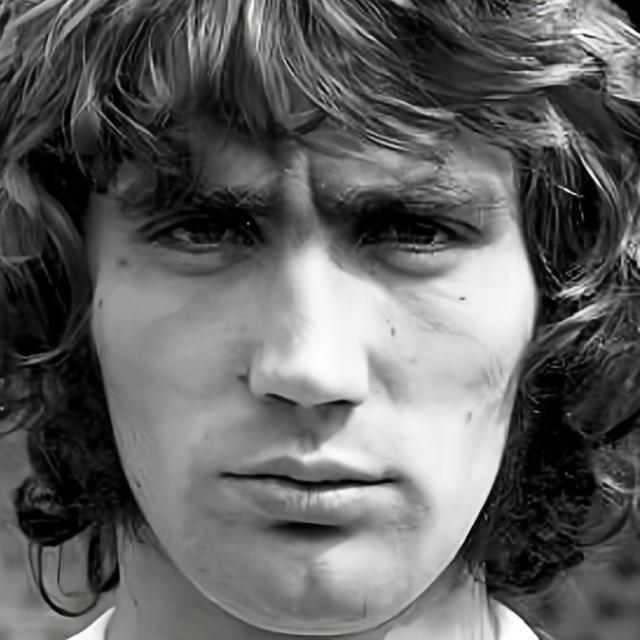anger: (92, 22, 526, 622)
